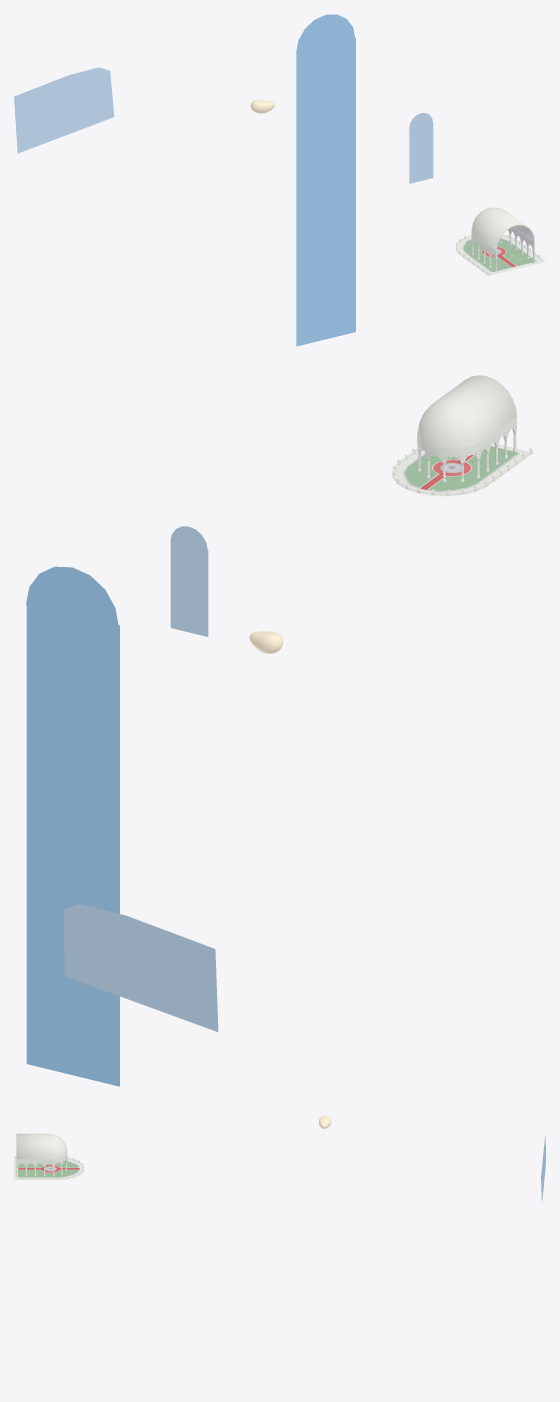
The model's file is EntornoArena.glb.
The picture shows the model from 3 angles, top to bottom: view 1: azimuth 30°, elevation 25°; view 2: azimuth 150°, elevation 25°; view 3: azimuth 270°, elevation 25°; orthographic projection. The views are drawn at different scales.
Parts seen in each view (by area): view 1: Suelo; view 2: Suelo; view 3: Suelo.
Part boxes in pixels (x1,y1,x2,y2): Suelo: (14,14,545,346); Suelo: (26,375,533,1086); Suelo: (14,1115,545,1202).
Bounding box in the file's own units: 111 × 149 × 283.
1 material, 1 textured.
